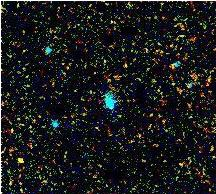star: (5, 143, 35, 173)
